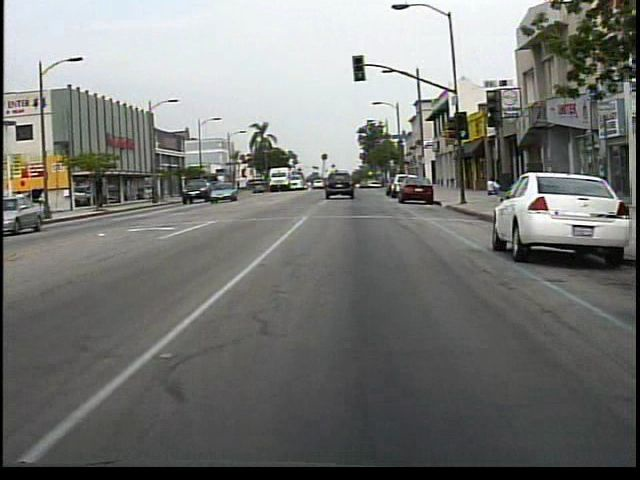person: (13, 186, 32, 218), (483, 174, 500, 198)
